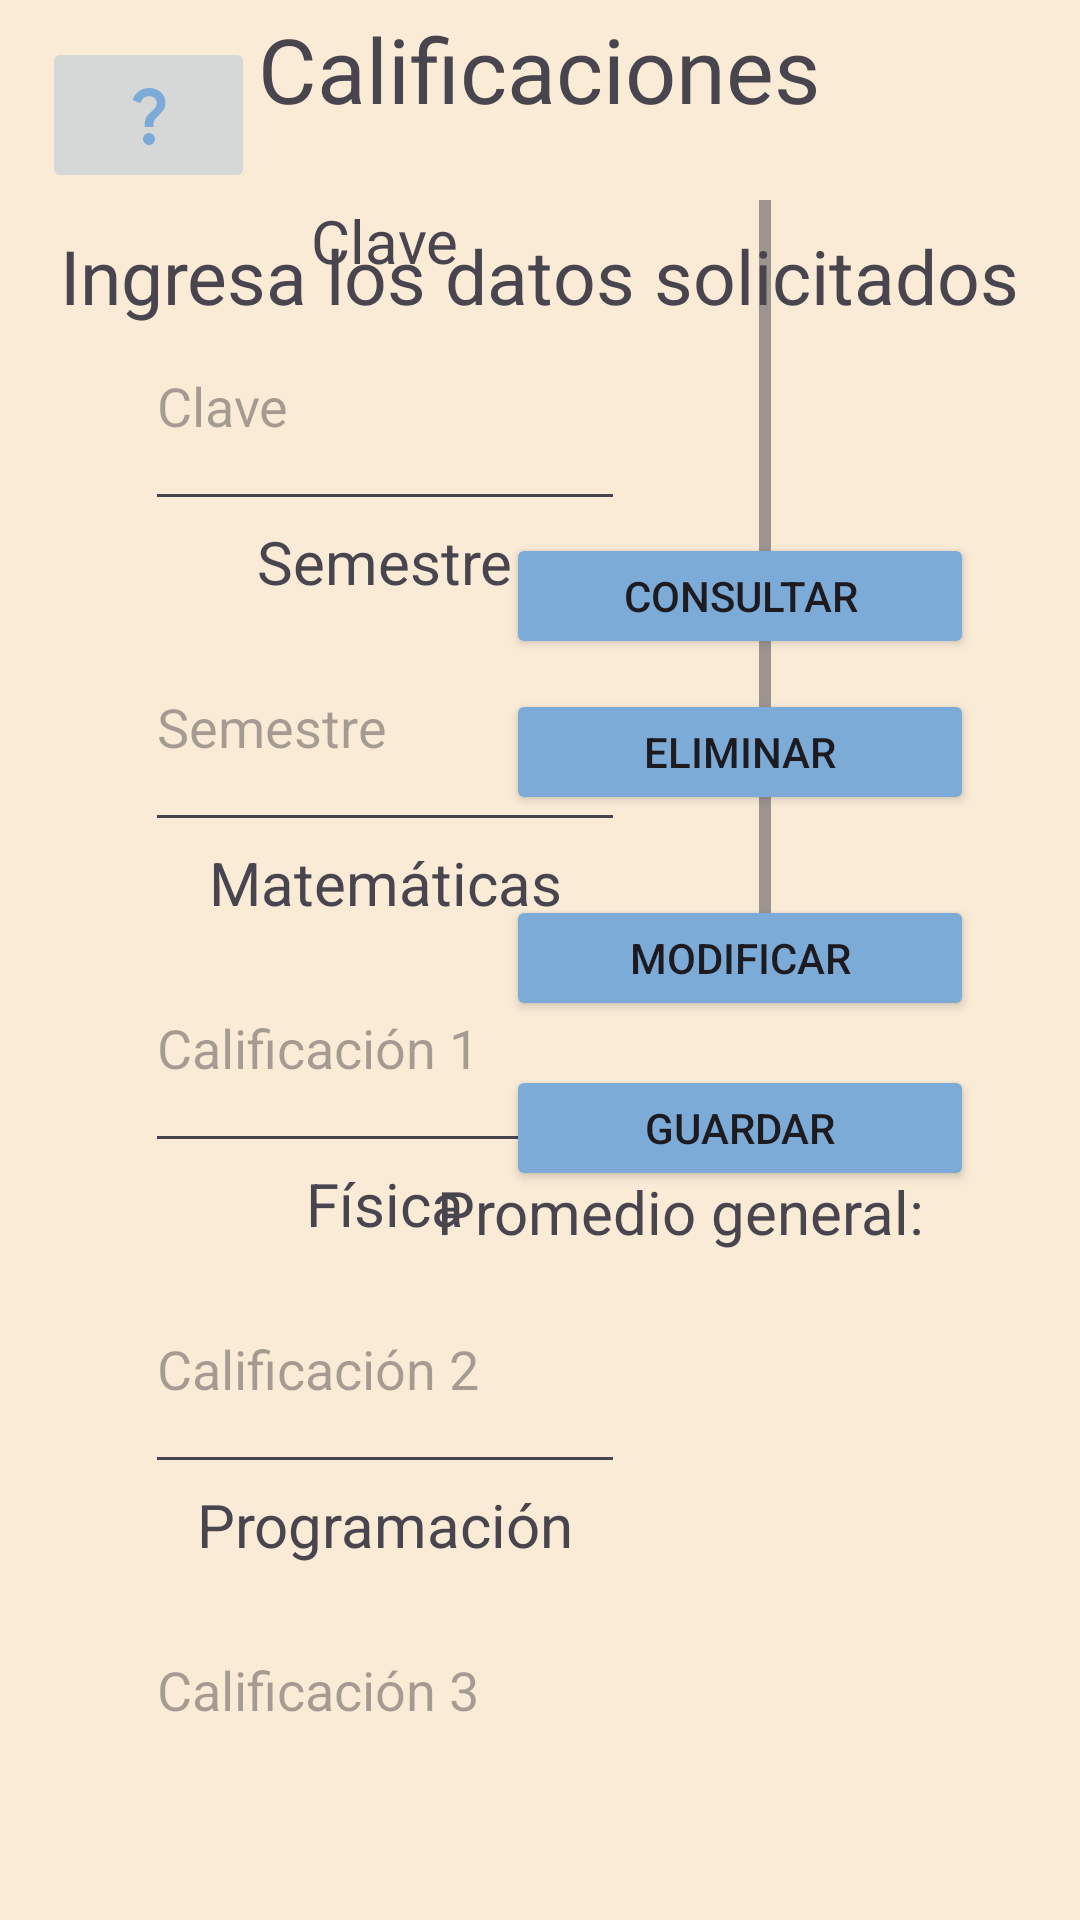

Icons on this 1080px x 1920px Android screen, each with the point to tap as (x,y):
question mark: (148,115)
